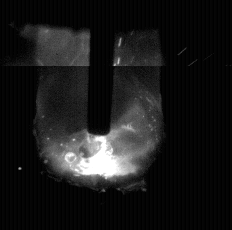arame: (87, 0, 112, 135)
poca: (36, 0, 163, 230)
